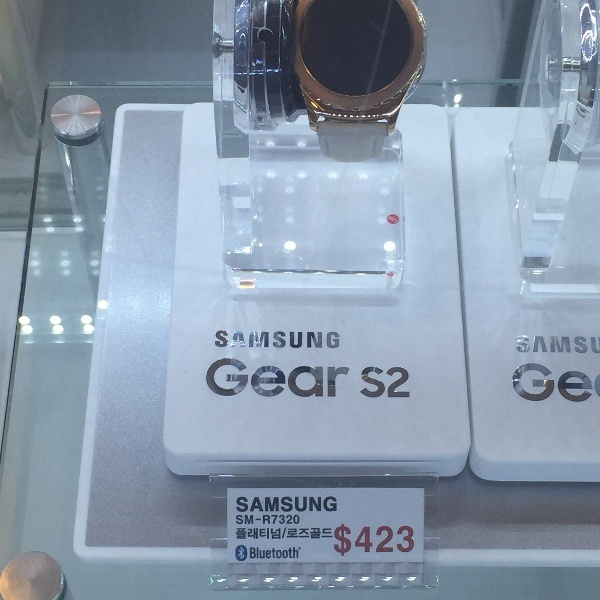text: (209, 356, 224, 401), (225, 356, 240, 401), (241, 356, 256, 401), (257, 356, 272, 401), (273, 356, 288, 401), (289, 356, 304, 401), (305, 356, 320, 401), (321, 356, 336, 401), (337, 356, 351, 401), (513, 362, 528, 404), (529, 362, 544, 404), (545, 362, 560, 404), (561, 362, 576, 404), (577, 362, 592, 404), (337, 523, 352, 558), (353, 523, 368, 558), (369, 523, 384, 558), (385, 523, 400, 558), (369, 366, 384, 400), (385, 366, 400, 400), (401, 523, 415, 558), (401, 366, 411, 400), (529, 335, 544, 355), (545, 335, 560, 355), (561, 335, 576, 355), (577, 335, 592, 355), (593, 362, 600, 404), (225, 330, 240, 349), (241, 330, 256, 349), (257, 330, 272, 349), (273, 330, 288, 349), (289, 330, 304, 349), (305, 330, 320, 349), (321, 330, 336, 349), (321, 496, 337, 513), (515, 335, 528, 355), (241, 496, 256, 513), (257, 496, 272, 513), (273, 496, 288, 513), (289, 496, 304, 513), (305, 496, 320, 513), (362, 366, 368, 400), (241, 527, 256, 540), (257, 527, 272, 540), (257, 547, 272, 560), (273, 547, 288, 560), (241, 514, 256, 526), (257, 514, 272, 526), (273, 514, 288, 526), (215, 330, 224, 349), (289, 528, 304, 539), (305, 528, 320, 539), (593, 335, 600, 355), (289, 514, 300, 526), (321, 528, 333, 539), (289, 547, 299, 560), (333, 523, 336, 558), (273, 527, 281, 540), (510, 362, 512, 404), (250, 547, 256, 560), (393, 214, 400, 225), (337, 330, 340, 349), (236, 527, 240, 540), (284, 527, 288, 540), (237, 496, 240, 513), (236, 514, 240, 526), (298, 547, 304, 551)
